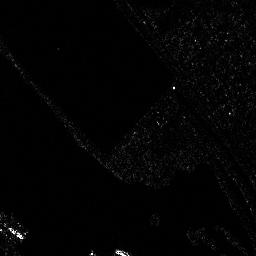ship: (7, 226, 24, 240)
